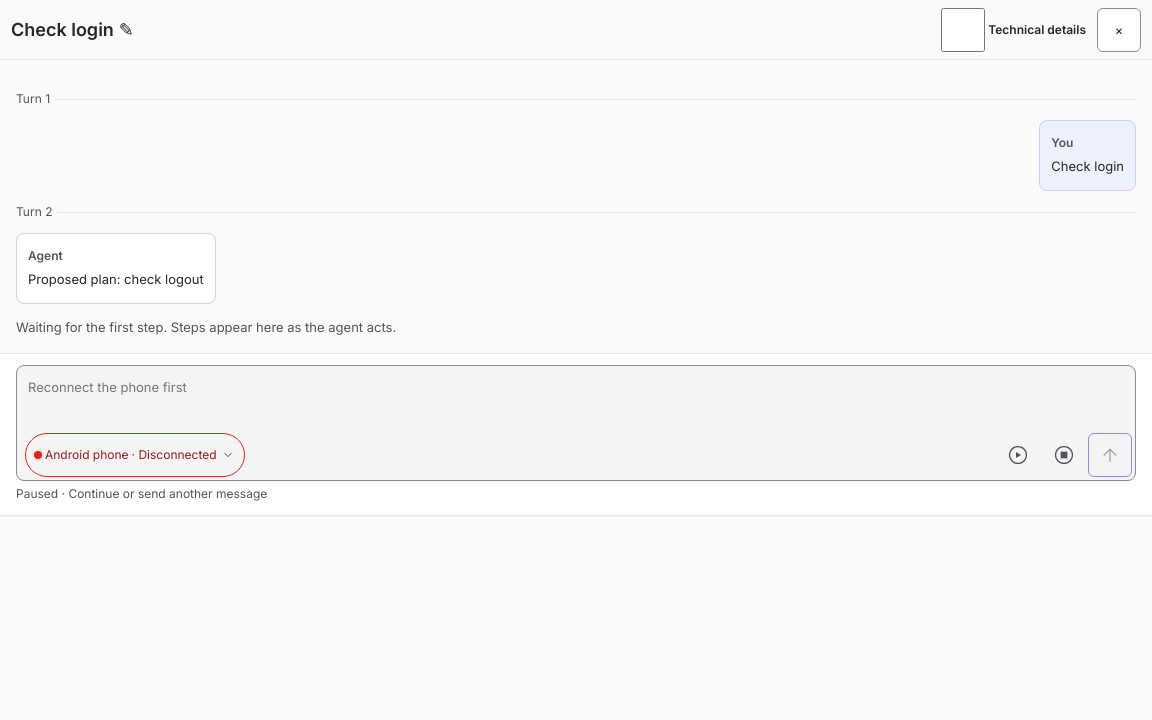
Scenario: RunChatComponent › composer (Sessions v2.1 rev-4) › when the session phone disconnects › disables Reconnect when this browser cannot connect a phone
Check: the element with class "composer-tools" is shown, box x1=17 y1=430 x2=1135 y2=480
Click the button "Android phone · Disconnected". click: (135, 455)
box: x1=25 y1=433 x2=245 y2=477
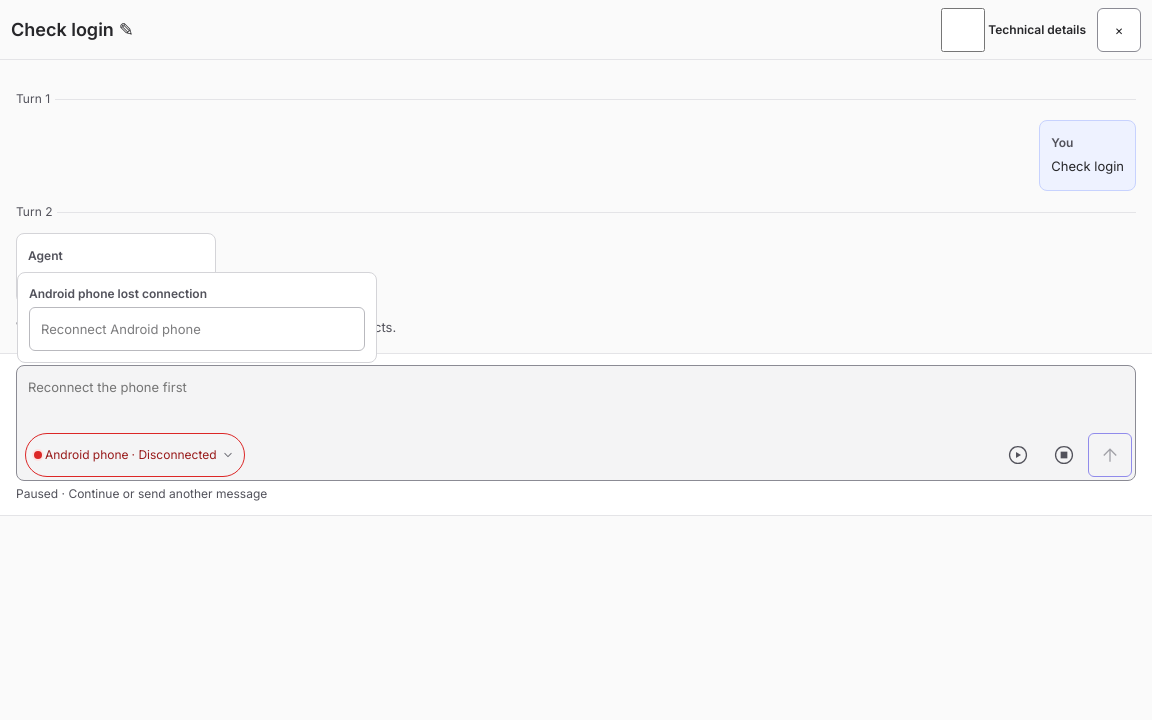
Check: the button "Reconnect Android phone" is disabled, box x1=29 y1=307 x2=365 y2=351
